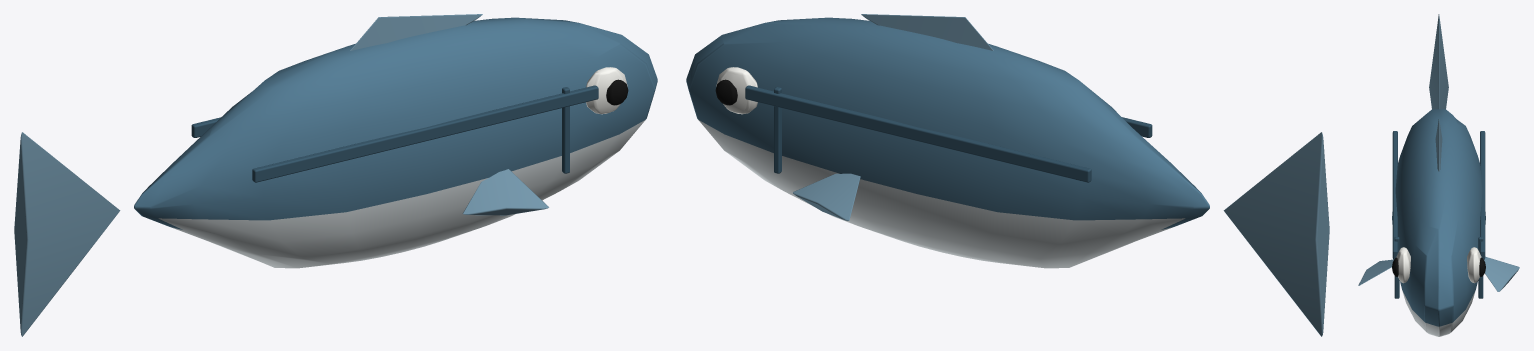
The model's file is Fish.glb.
3 renders of one model, left to right at view 1: azimuth 30°, elevation 25°; view 2: azimuth 150°, elevation 25°; view 3: azimuth 270°, elevation 25°, orthographic. The views are drawn at different scales.
Parts seen in each view (by area): view 1: Fish; view 2: Fish; view 3: Fish.
Boxes of the visible parts, <box> form: Fish: <box>14,14,657,336</box>; Fish: <box>686,14,1329,336</box>; Fish: <box>1358,14,1519,336</box>.
Size of the model in its own units: 0.3145 by 0.1116 by 0.0961.
